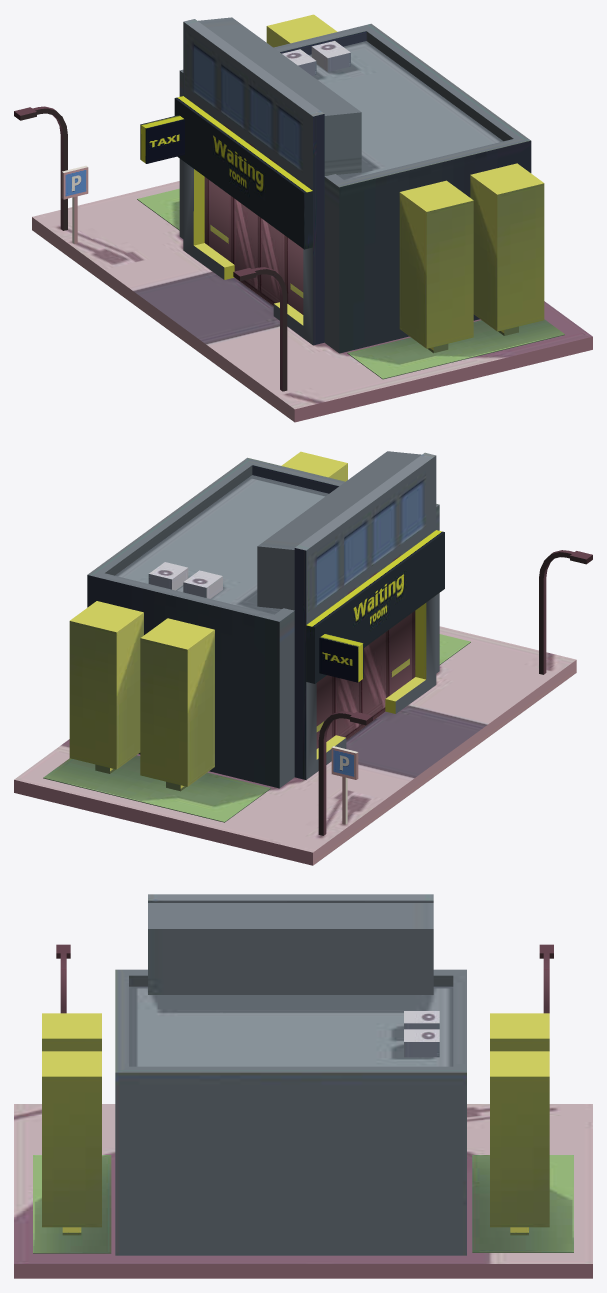
The model's file is house02.FBX.
3 views of the same model, one above another, from view 1: azimuth 30°, elevation 25°; view 2: azimuth 150°, elevation 25°; view 3: azimuth 270°, elevation 25° (orthographic). The views are drawn at different scales.
Visible parts, largest first — view 1: Box022; view 2: Box022; view 3: Box022.
Boxes of the visible parts, x1,y1,x2,y2 form: Box022: (14, 14, 592, 422); Box022: (14, 451, 592, 865); Box022: (14, 894, 592, 1278).
Bounding box in the file's own units: 126 × 87.01 × 171.
Materials: 1 (1 with a texture image).
